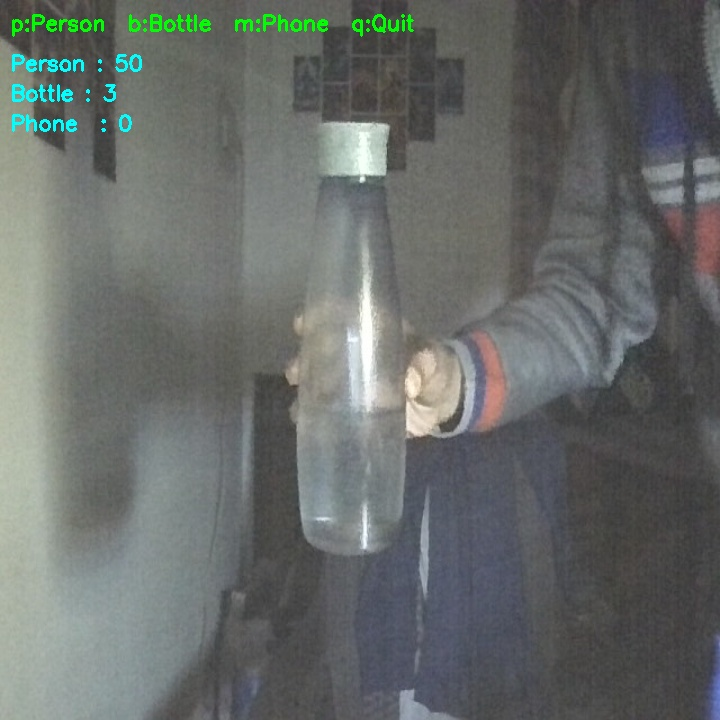bottle: (298, 114, 412, 564)
